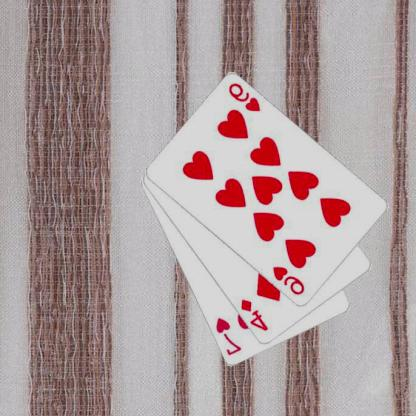4D: (240, 296, 271, 333)
7H: (215, 315, 244, 357)
9H: (272, 264, 308, 297), (228, 81, 263, 113)
